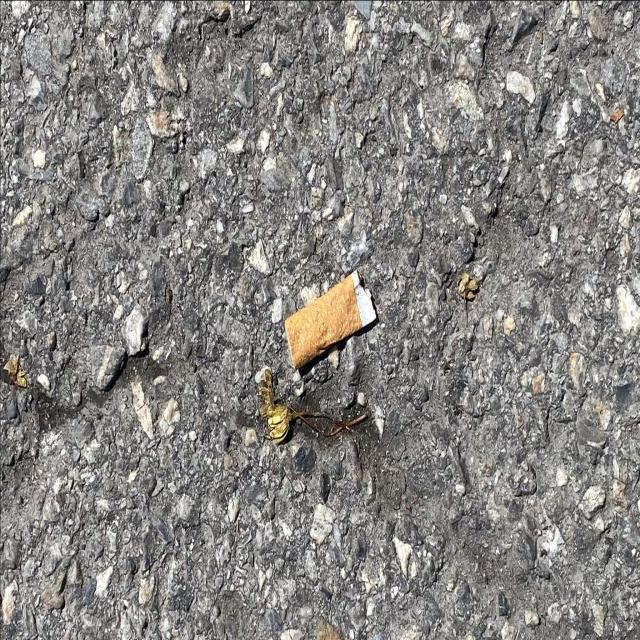other waste: (283, 268, 377, 373)
